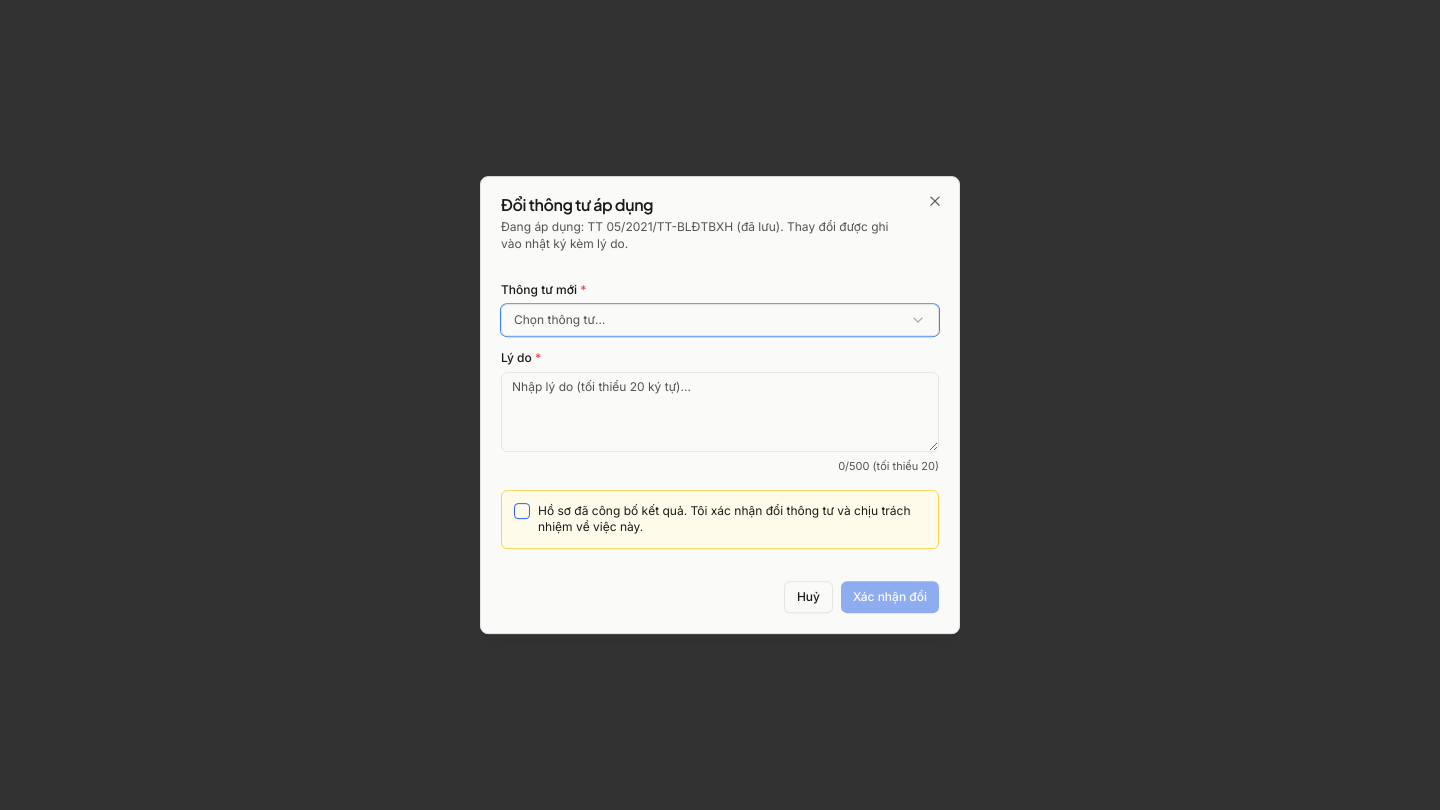
ApplicableCircularDialog › khi BE nói cần xác nhận: chưa tick thì không gửi được
Click the dropdown with test id "circular-select" at {"x": 560, "y": 319}, box [501,304,939,336]
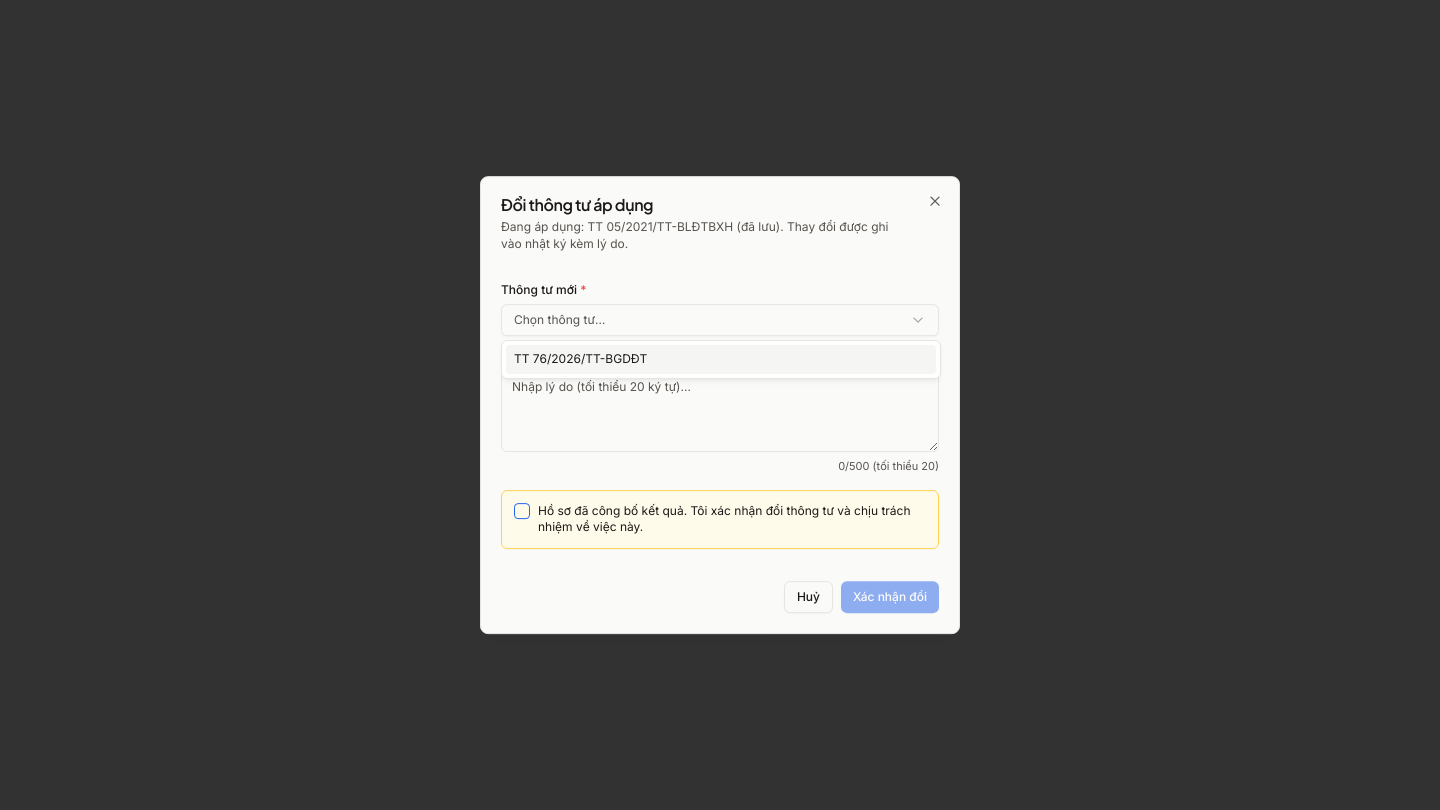
Click the option "TT 76/2026/TT-BGDĐT" at {"x": 581, "y": 358}, box [506,345,936,374]
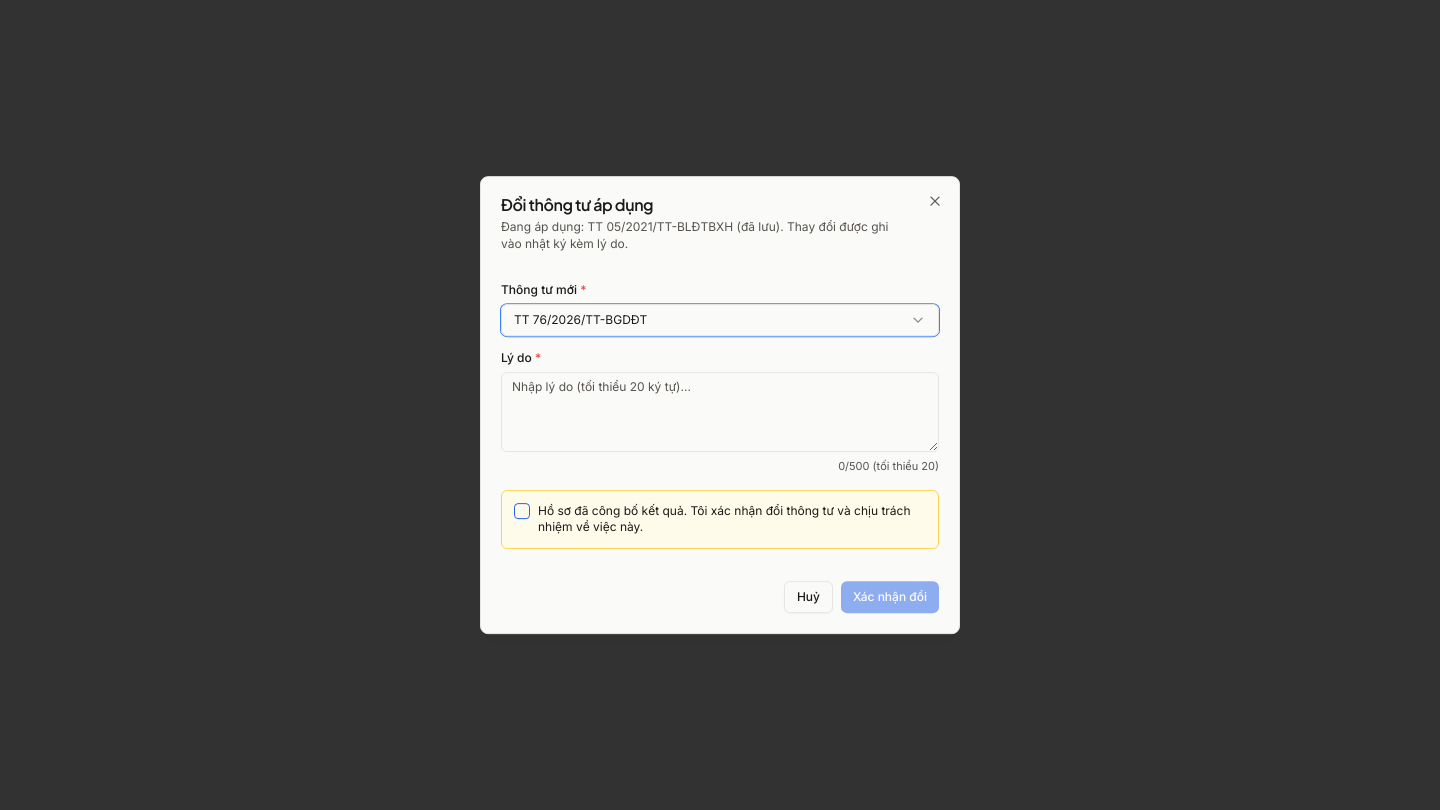
Type "Ly do du dai hai muoi ky tu tro len" into the text box with test id "circular-reason-input" at {"x": 720, "y": 412}, box [501,372,939,452]
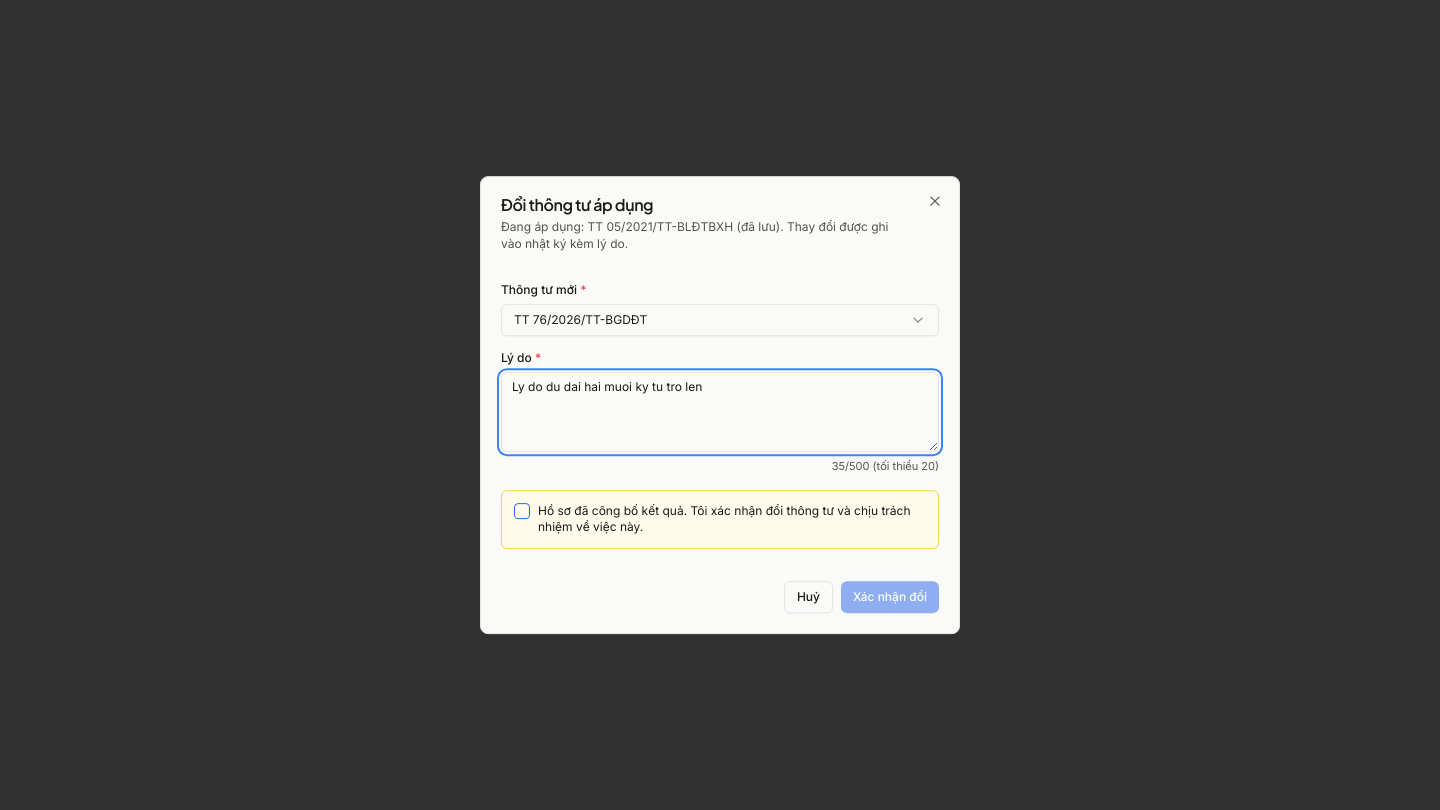
Check: the button with test id "circular-submit" is disabled, box [841,581,939,613]
Click the checkbox with test id "circular-ack-checkbox" at {"x": 522, "y": 511}, box [514,503,530,519]
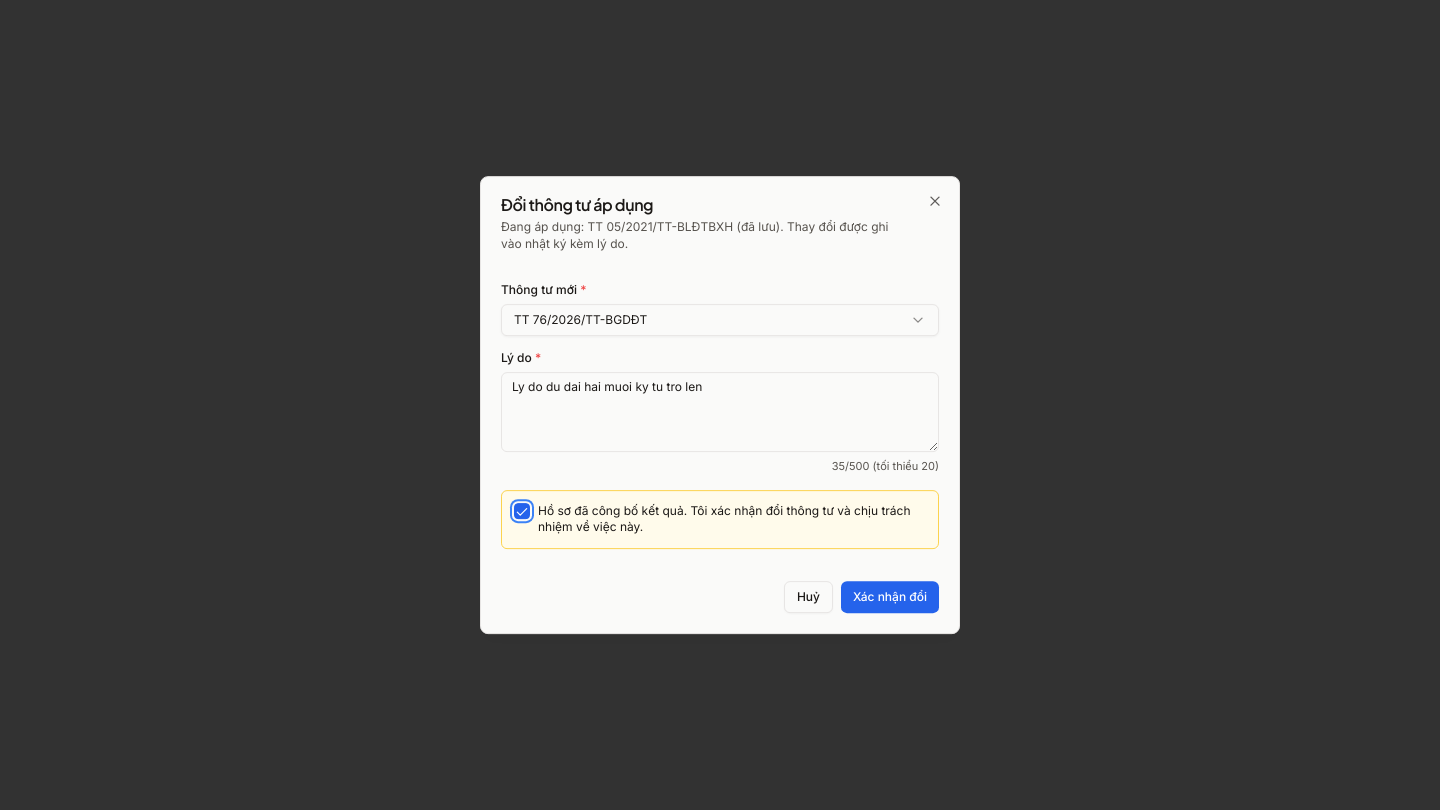
Check: the button with test id "circular-submit" is enabled, box [841,581,939,613]
